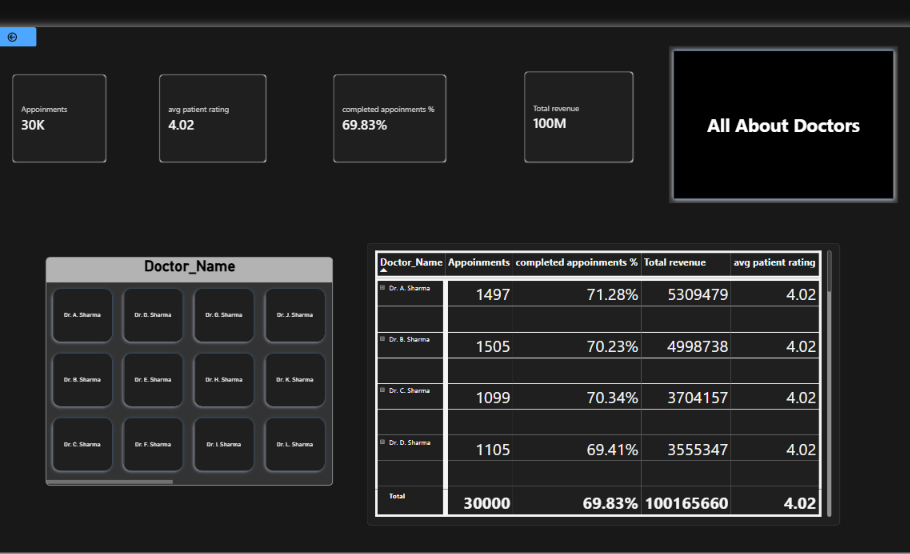

Layout of this report page (visuals, bound fields, positions):
{"tool":"powerbi","page":{"name":"doctors detils","canvas":[1920,1080],"ordinal":2},"visuals":[{"type":"actionButton","box":[0,0,100,40],"z":0},{"type":"cardVisual","fields":{"Data":["Appointments.Appoinments"]},"box":[49.4,96.7,195.5,183.2],"z":1000},{"type":"cardVisual","fields":{"Data":["Appointments.completed appoinments %"]},"box":[710.1,96.7,234.6,183.2],"z":2000},{"type":"cardVisual","fields":{"Data":["Appointments.Total revenue"]},"box":[1103.3,90.6,226.4,189.4],"z":3000},{"type":"cardVisual","fields":{"Data":["Appointments.avg patient rating"]},"box":[352,96.7,222.3,183.2],"z":4000},{"type":"advancedSlicerVisual","fields":{"Values":["Doctors.Doctor_Name"]},"box":[119.4,473.4,590.7,469.3],"z":5000},{"type":"pivotTable","fields":{"Rows":["Doctors.Doctor_Name","Doctors.Doctor_ID"],"Values":["Appointments.Appoinments","Appointments.completed appoinments %","Appointments.Total revenue","Appointments.avg patient rating"]},"box":[780.1,444.6,973.6,580.4],"z":6000},{"type":"shape","box":[1401.7,39.1,471.4,323.2],"z":7000}]}

Visuals, with their boxes on the page's 1920x1080 design canvas (x1, y1, x2, y2). These are canvas units, not pixel positions in the 910x554 screenshot, which may show the page scaled, cropped or inside an application window:
actionButton: {"left": 0, "top": 0, "right": 100, "bottom": 40}
cardVisual - Appointments.Appoinments: {"left": 49, "top": 97, "right": 245, "bottom": 280}
cardVisual - Appointments.completed appoinments %: {"left": 710, "top": 97, "right": 945, "bottom": 280}
cardVisual - Appointments.Total revenue: {"left": 1103, "top": 91, "right": 1330, "bottom": 280}
cardVisual - Appointments.avg patient rating: {"left": 352, "top": 97, "right": 574, "bottom": 280}
advancedSlicerVisual - Doctors.Doctor_Name: {"left": 119, "top": 473, "right": 710, "bottom": 943}
pivotTable - Doctors.Doctor_Name x Doctors.Doctor_ID: {"left": 780, "top": 445, "right": 1754, "bottom": 1025}
shape: {"left": 1402, "top": 39, "right": 1873, "bottom": 362}
